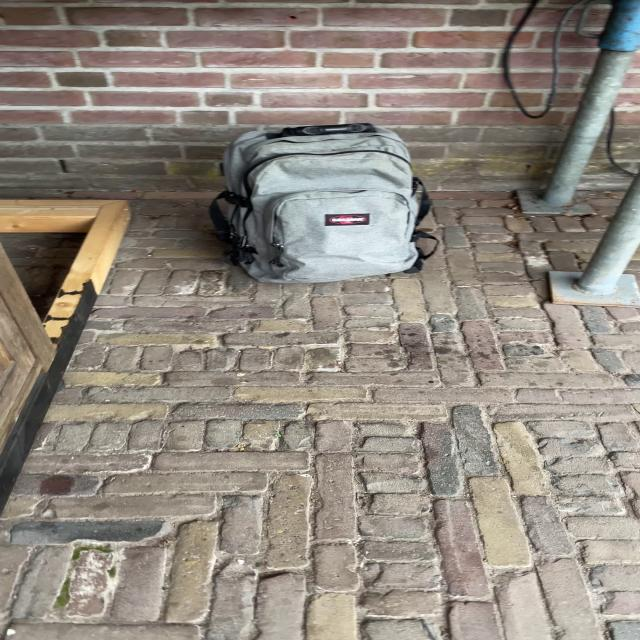backpack: (198, 114, 440, 289)
